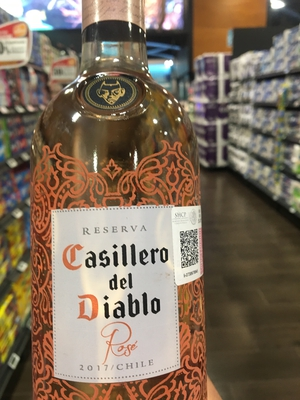casillero del diablo rose: (29, 13, 210, 400)
